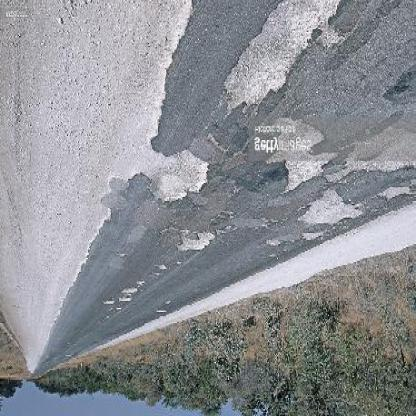pothole: (222, 2, 345, 115), (144, 151, 211, 209), (297, 193, 364, 232), (280, 161, 329, 200), (178, 230, 216, 256), (374, 187, 413, 203), (119, 287, 138, 299), (103, 302, 115, 309)
